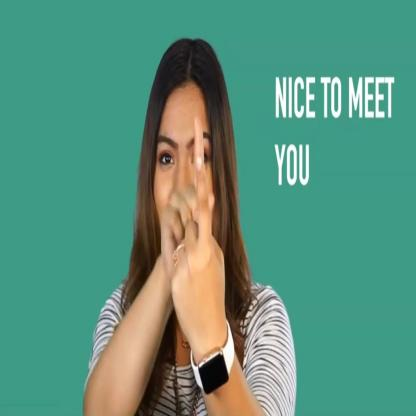NiceToMeetYou: (150, 112, 233, 366)
